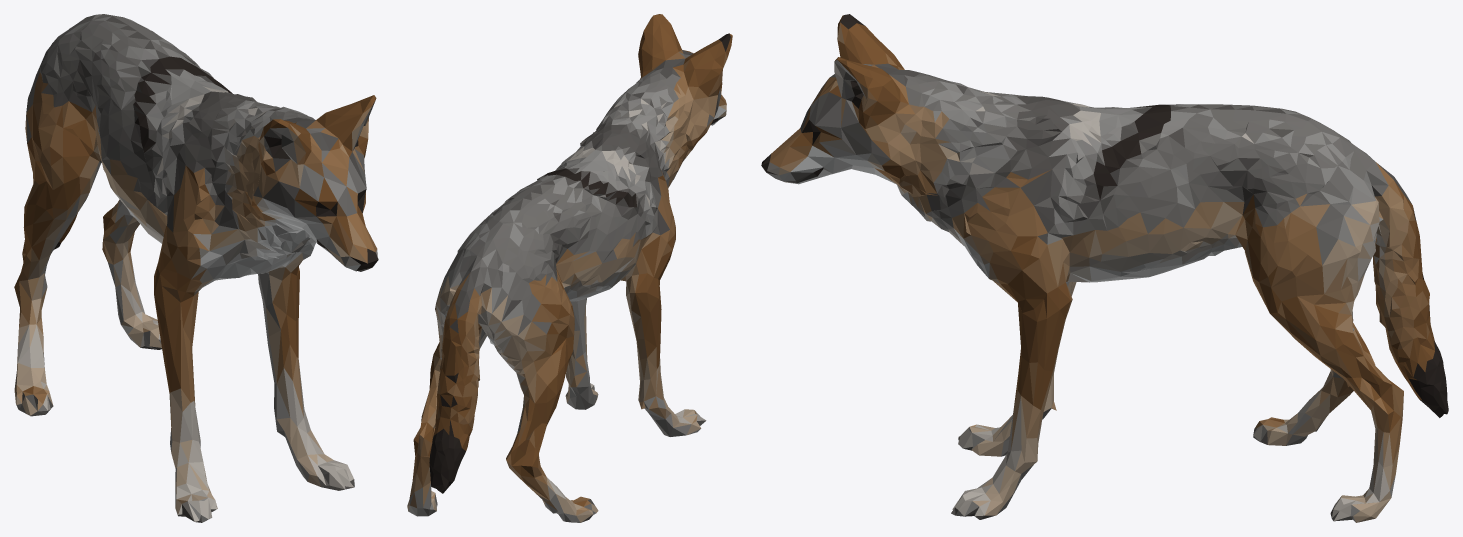
The model's file is canis_latrans.glb.
3 views of the same model, side by side, from view 1: azimuth 30°, elevation 25°; view 2: azimuth 150°, elevation 25°; view 3: azimuth 270°, elevation 25° (orthographic). The views are drawn at different scales.
Visible parts, largest first — view 1: lod0; view 2: lod0; view 3: lod0.
Part boxes in pixels (x1=…): lod0: x1=14, y1=14, x2=378, y2=522; lod0: x1=407, y1=14, x2=732, y2=522; lod0: x1=761, y1=14, x2=1448, y2=522.
Size of what is drawn, in the model's own units: 0.3028 by 0.6717 by 0.9489.
